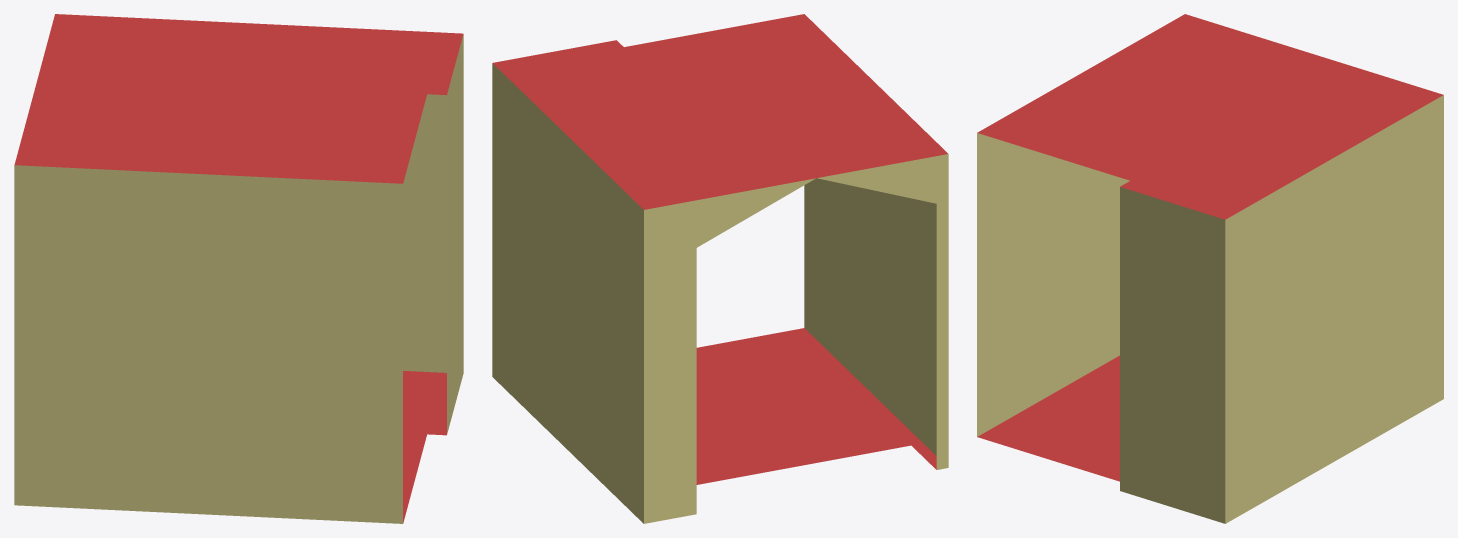
The picture shows the model from 3 angles, left to right: view 1: azimuth 30°, elevation 25°; view 2: azimuth 150°, elevation 25°; view 3: azimuth 270°, elevation 25°; orthographic projection. The views are drawn at different scales.
Size of the model in its own units: 9.62 by 9.23 by 6.63.
